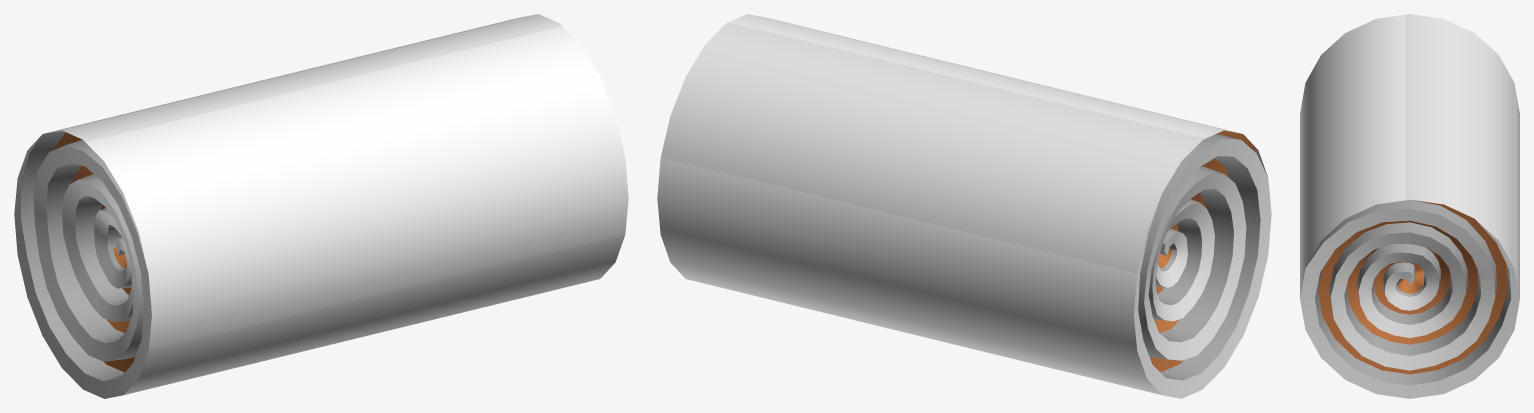
The model's file is spiral.fbx.
3 views of the same model, side by side, from view 1: azimuth 30°, elevation 25°; view 2: azimuth 150°, elevation 25°; view 3: azimuth 270°, elevation 25° (orthographic). The views are drawn at different scales.
Visible parts, largest first — view 1: mesh_spiral_roll; view 2: mesh_spiral_roll; view 3: mesh_spiral_roll.
Boxes of the visible parts, bbox=[...] form: mesh_spiral_roll: bbox=[14, 14, 628, 398]; mesh_spiral_roll: bbox=[657, 14, 1271, 398]; mesh_spiral_roll: bbox=[1300, 14, 1519, 398].
Bounding box in the file's own units: 113 × 56.42 × 56.42.
Materials: 2 (1 with a texture image).
